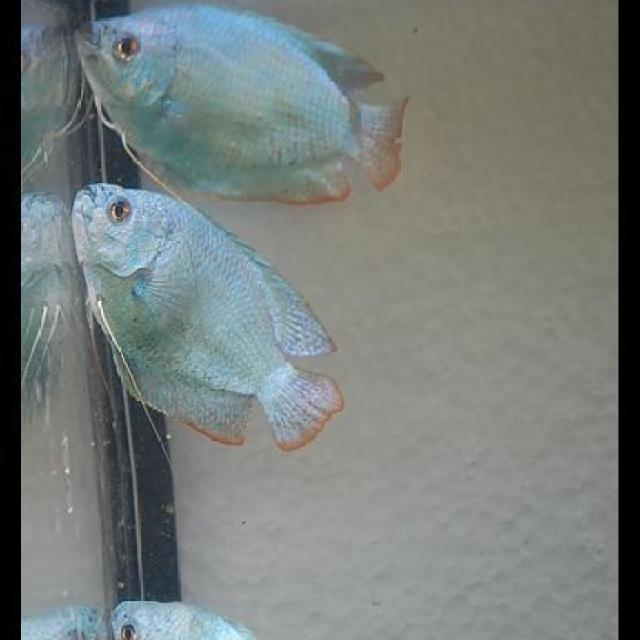Gourami: (70, 180, 348, 448), (68, 0, 410, 202)
